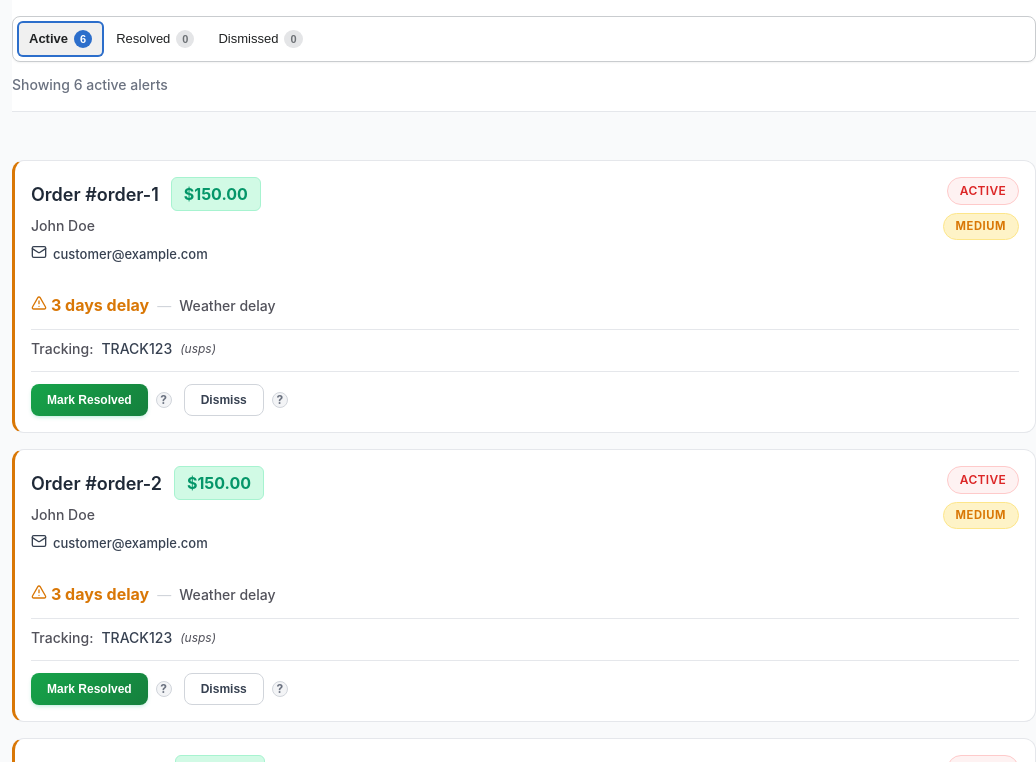
it: AlertsTab Component › v1.32: Lucide Icon Integration - Empty State Icons › Resolved Tab Empty State Icon › should maintain accessible empty state text on Resolved tab
// Switch to Resolved tab
Click the button "Resolved 0" at x=155, y=39, box [104,21,206,57]
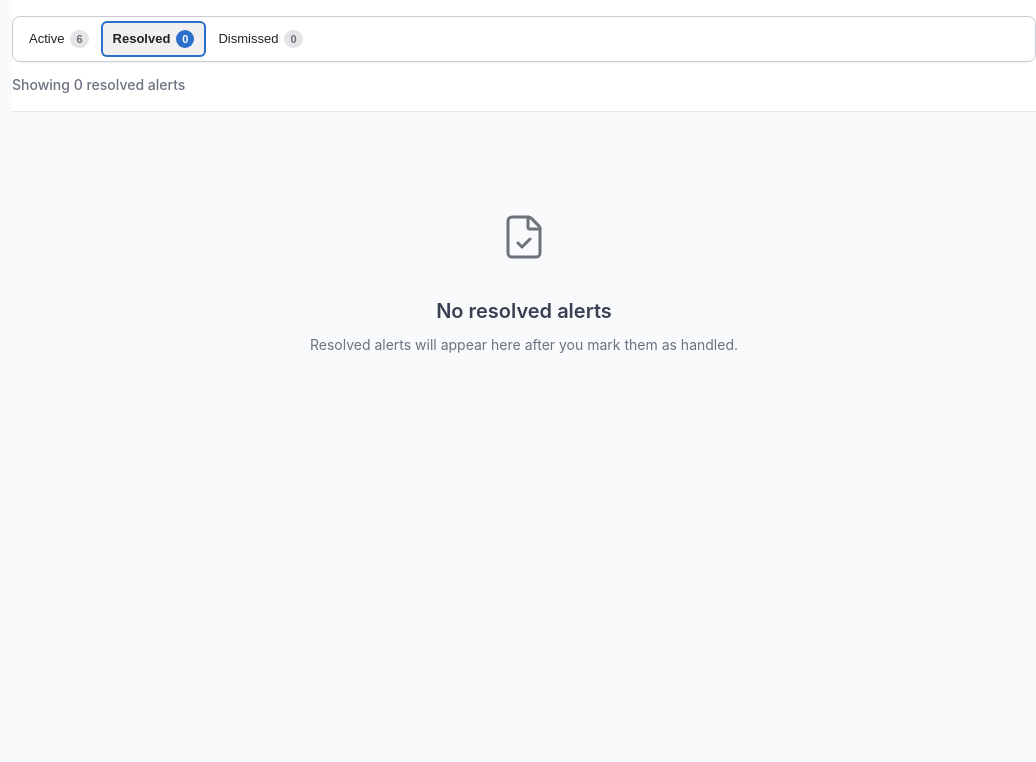
Result: the heading "No resolved alerts" is shown at [436,296,612,326]
